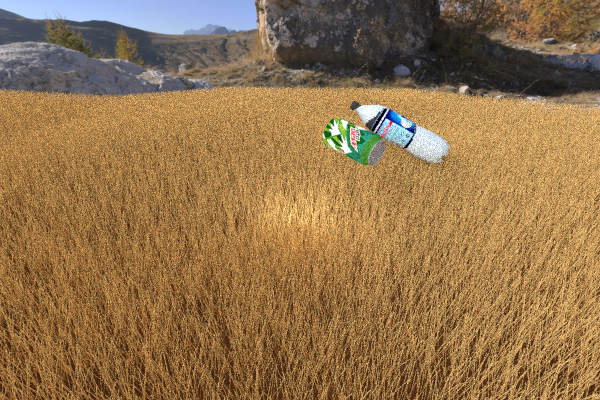Plastic Bottle: (349, 101, 449, 163), (322, 117, 385, 165), (147, 115, 214, 153)
